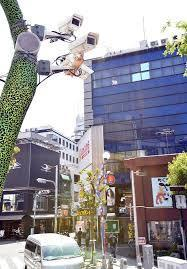tutu: (67, 31, 103, 56), (55, 10, 86, 34)
